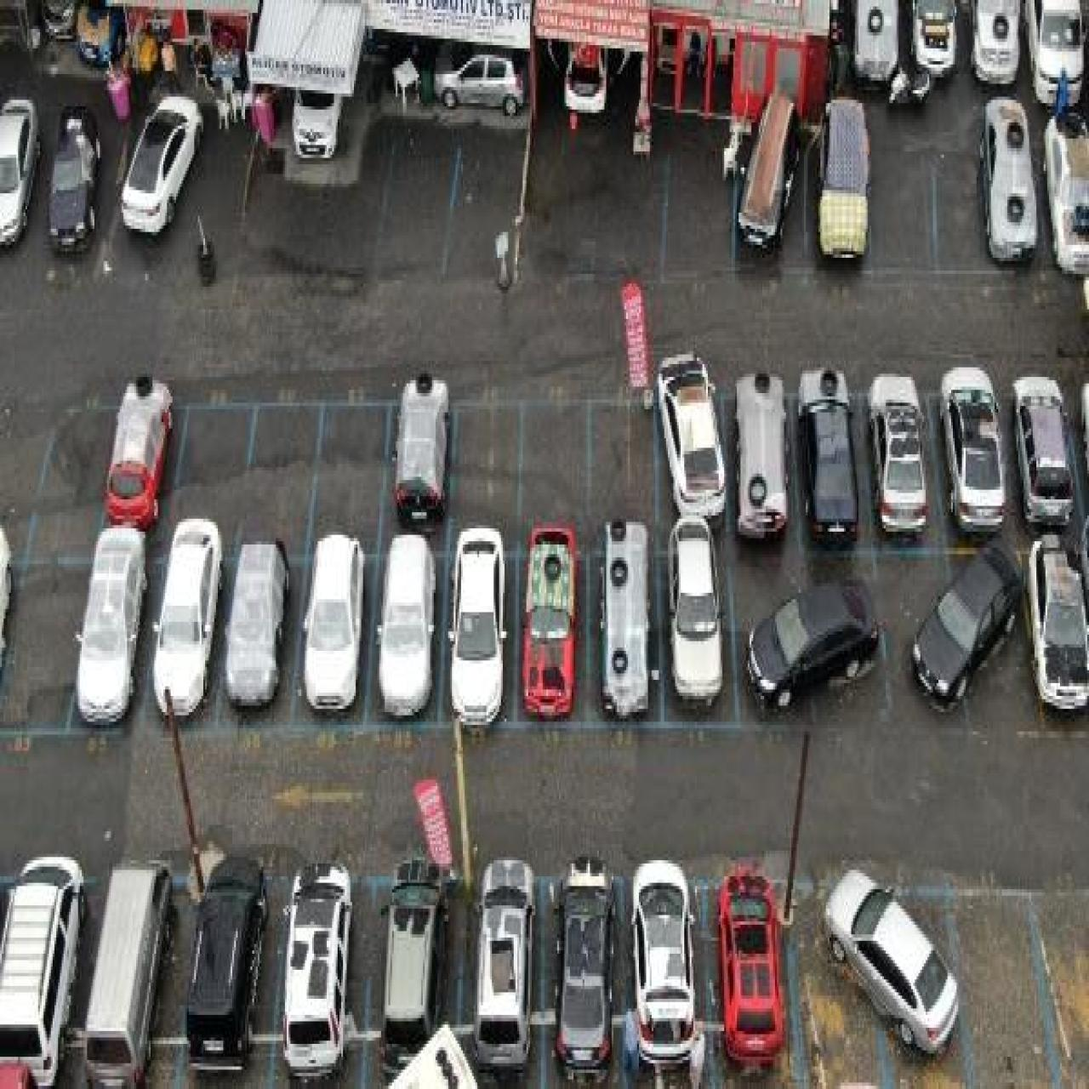cars: (83, 857, 180, 1086), (0, 846, 91, 1078), (703, 870, 794, 1089), (190, 867, 282, 1073), (793, 873, 882, 1083), (878, 878, 962, 1087), (621, 878, 705, 1087), (373, 873, 453, 1089), (465, 878, 548, 1081), (584, 530, 664, 736), (547, 867, 623, 1082), (285, 884, 365, 1081), (661, 527, 737, 730), (365, 544, 445, 728), (113, 97, 194, 277), (223, 549, 299, 736), (40, 101, 114, 288), (804, 549, 880, 730), (448, 536, 517, 730), (736, 542, 805, 735), (791, 364, 866, 541), (78, 546, 141, 755), (294, 544, 363, 728), (877, 548, 947, 725), (952, 551, 1023, 722), (940, 379, 1018, 533), (154, 545, 218, 731), (1013, 382, 1089, 536), (519, 541, 584, 721), (804, 100, 868, 280), (1027, 543, 1087, 733), (985, 117, 1047, 285), (871, 379, 937, 533), (663, 371, 726, 529), (731, 367, 791, 529), (739, 103, 795, 271), (111, 382, 172, 536), (384, 373, 442, 528), (185, 122, 241, 280)
empty: (959, 892, 1037, 1089), (8, 551, 77, 738), (177, 377, 246, 551), (32, 396, 106, 557), (660, 116, 734, 277), (456, 123, 524, 290), (311, 399, 386, 538), (862, 123, 924, 290), (522, 385, 591, 530), (450, 382, 516, 530), (590, 382, 655, 530), (248, 399, 313, 538), (930, 134, 986, 282), (392, 123, 445, 274)
